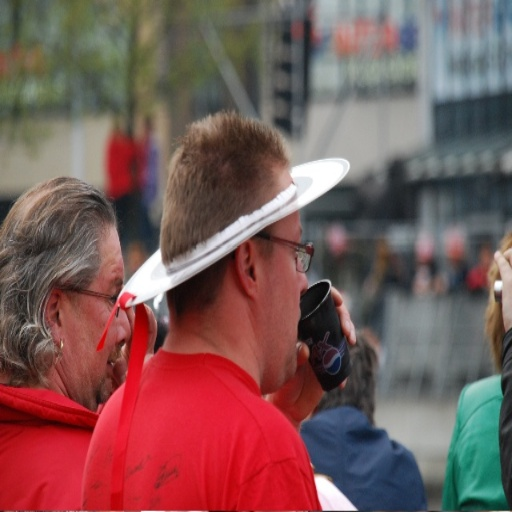hand: (271, 285, 358, 420), (108, 301, 158, 399), (495, 244, 511, 332)
